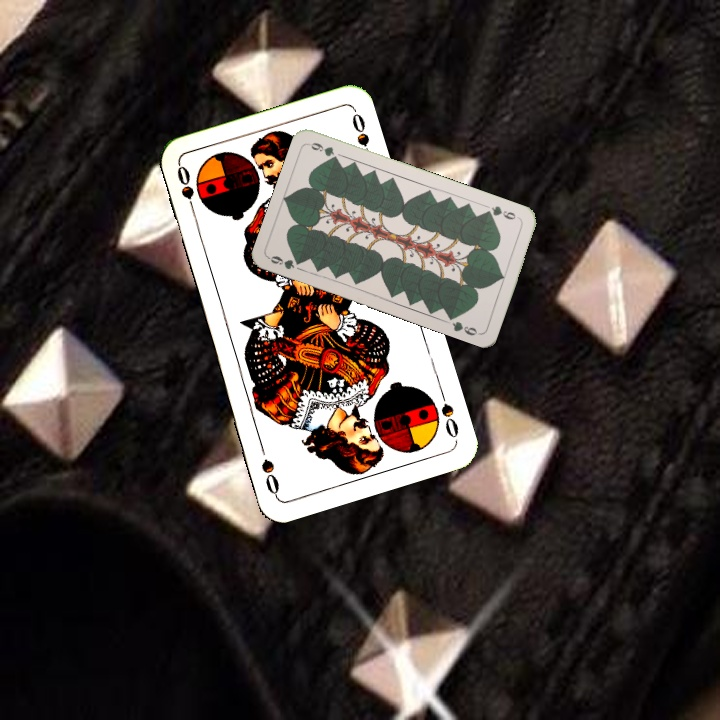G9: (482, 202, 523, 222), (265, 252, 306, 272)
SO: (173, 161, 199, 220), (435, 385, 461, 443)
